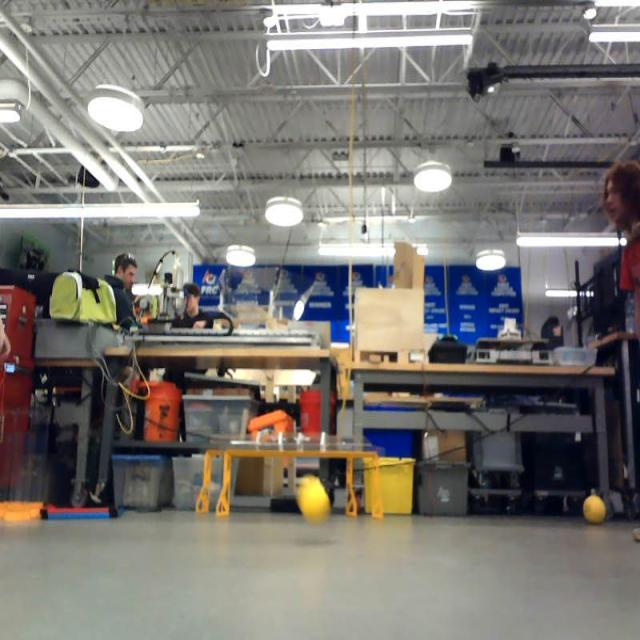Fuel: (301, 482, 329, 524), (583, 496, 605, 524)
